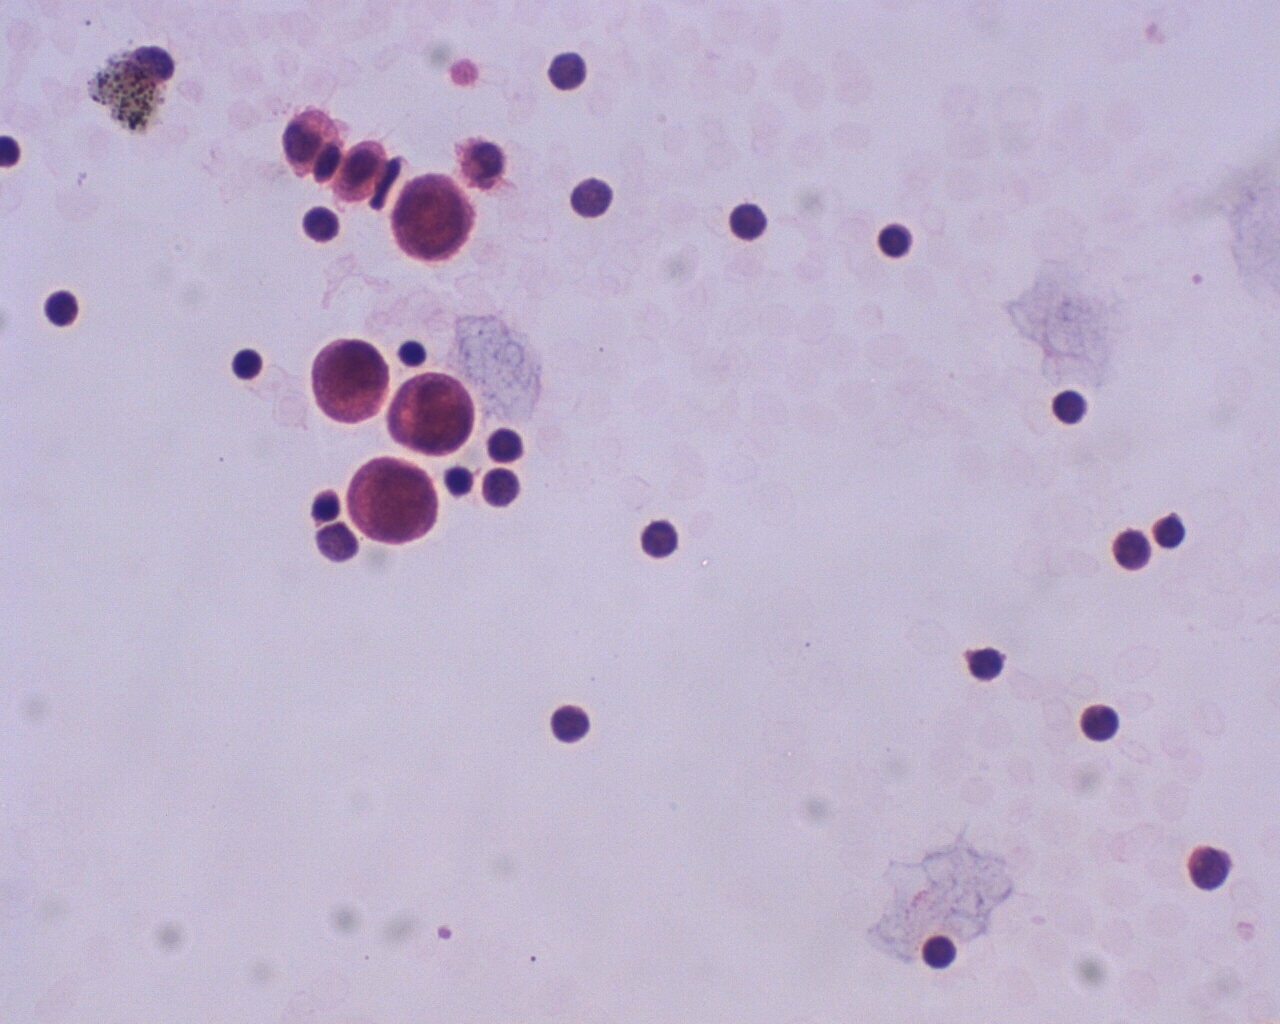ab: (342, 451, 441, 546), (387, 170, 478, 264), (385, 373, 479, 456), (310, 336, 395, 426)
lymph: (1183, 841, 1241, 897), (724, 197, 775, 249), (567, 173, 619, 222), (544, 701, 598, 747), (295, 199, 342, 249), (1043, 382, 1094, 428), (962, 638, 1010, 686), (639, 515, 685, 564), (1075, 699, 1121, 745), (874, 216, 920, 260), (921, 929, 965, 971), (40, 287, 83, 329), (227, 345, 266, 383)
